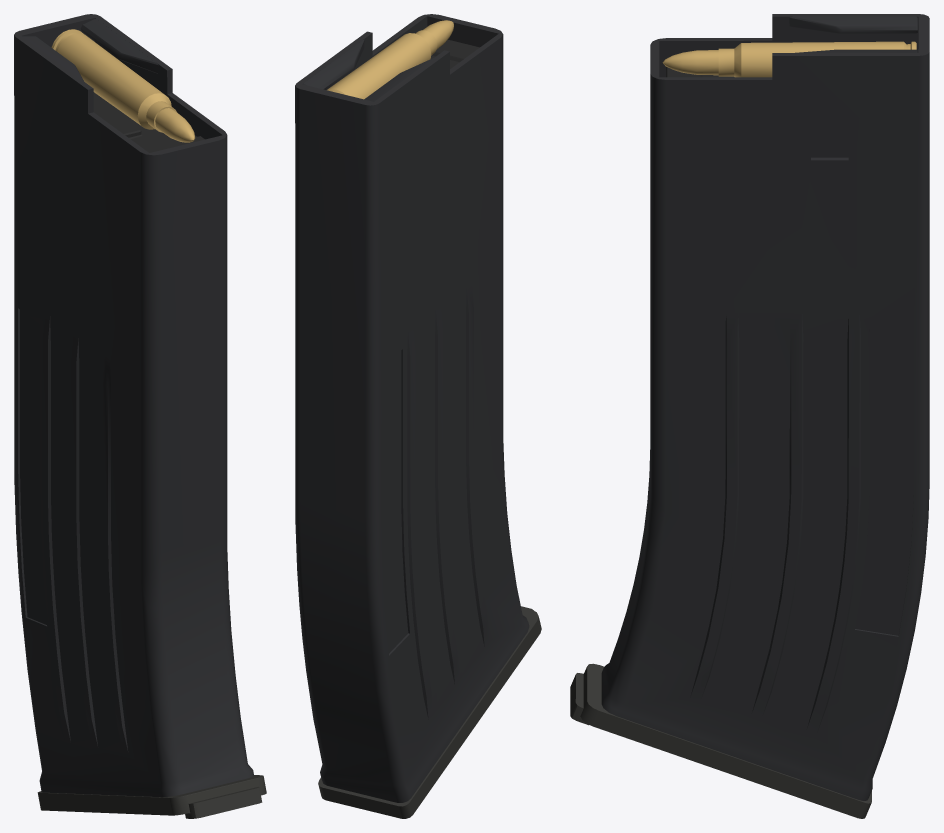
Rendered from SM_AR15_Mag30_Loaded_LOD1.fbx.
The picture shows the model from 3 angles, left to right: view 1: azimuth 30°, elevation 25°; view 2: azimuth 150°, elevation 25°; view 3: azimuth 270°, elevation 25°; orthographic projection. The views are drawn at different scales.
Visible parts, largest first — view 1: SM_AR15_Mag30_Loaded_LOD1; view 2: SM_AR15_Mag30_Loaded_LOD1; view 3: SM_AR15_Mag30_Loaded_LOD1.
Part boxes in pixels (x1=…): SM_AR15_Mag30_Loaded_LOD1: x1=14, y1=14, x2=266, y2=818; SM_AR15_Mag30_Loaded_LOD1: x1=295, y1=14, x2=541, y2=818; SM_AR15_Mag30_Loaded_LOD1: x1=570, y1=14, x2=929, y2=818.
Bounding box in the file's own units: 2.45 × 8.12 × 19.01.
